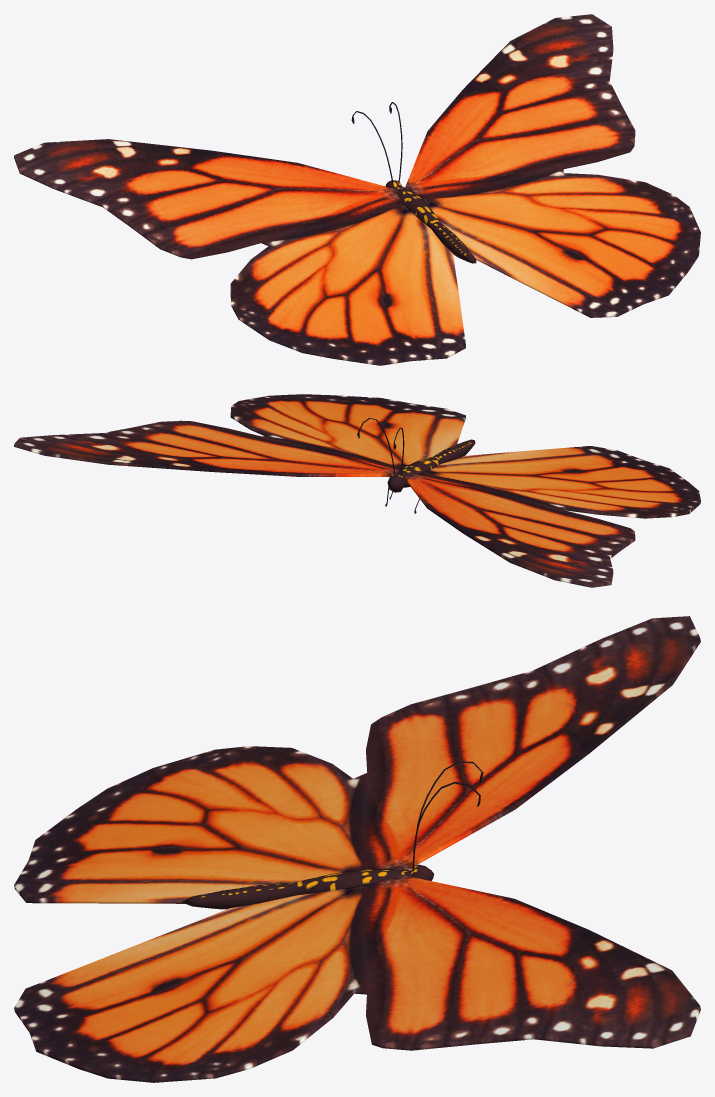
Rendered from ButterFly_Full.glb.
3 views of the same model, one above another, from view 1: azimuth 30°, elevation 25°; view 2: azimuth 150°, elevation 25°; view 3: azimuth 270°, elevation 25° (orthographic). The views are drawn at different scales.
Parts seen in each view (by area): view 1: ButterFly; view 2: ButterFly; view 3: ButterFly.
Part boxes in pixels (box(x1,y1,x2,y2)): ButterFly: box(14, 14, 700, 365); ButterFly: box(14, 394, 700, 587); ButterFly: box(14, 616, 700, 1082).
Size of the model in its own units: 3.77 by 0.735 by 2.57.
Materials: 1 (1 with a texture image).
